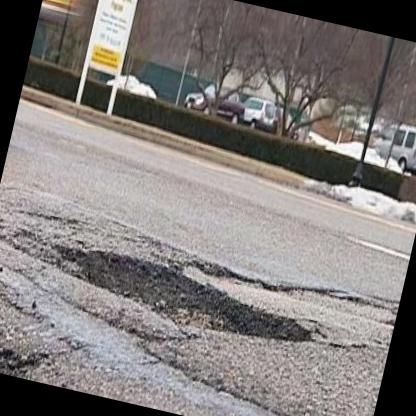pothole: (56, 242, 320, 354), (0, 333, 42, 380)
